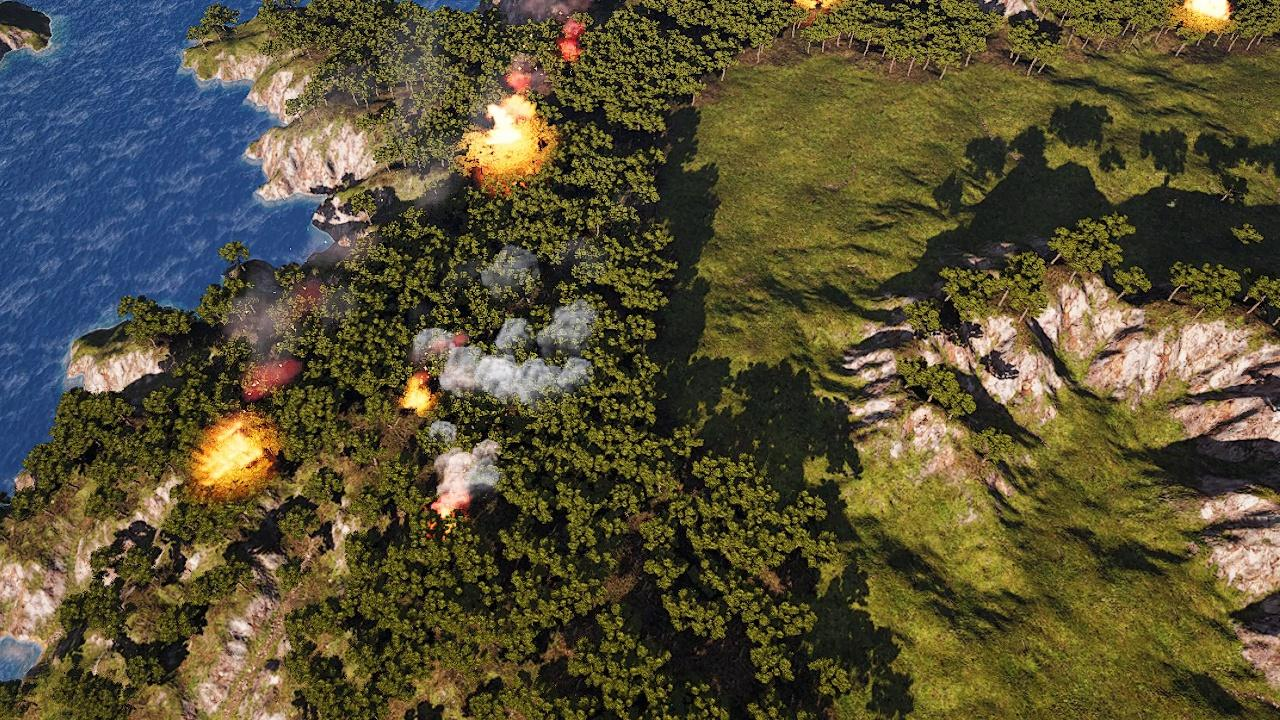fire: (470, 95, 540, 168), (201, 421, 266, 485), (402, 376, 434, 411), (1183, 0, 1231, 20), (428, 499, 460, 524), (791, 0, 839, 8)
smoke: (417, 299, 601, 402), (231, 261, 302, 406), (500, 0, 599, 90), (430, 441, 503, 521), (478, 245, 543, 291)
